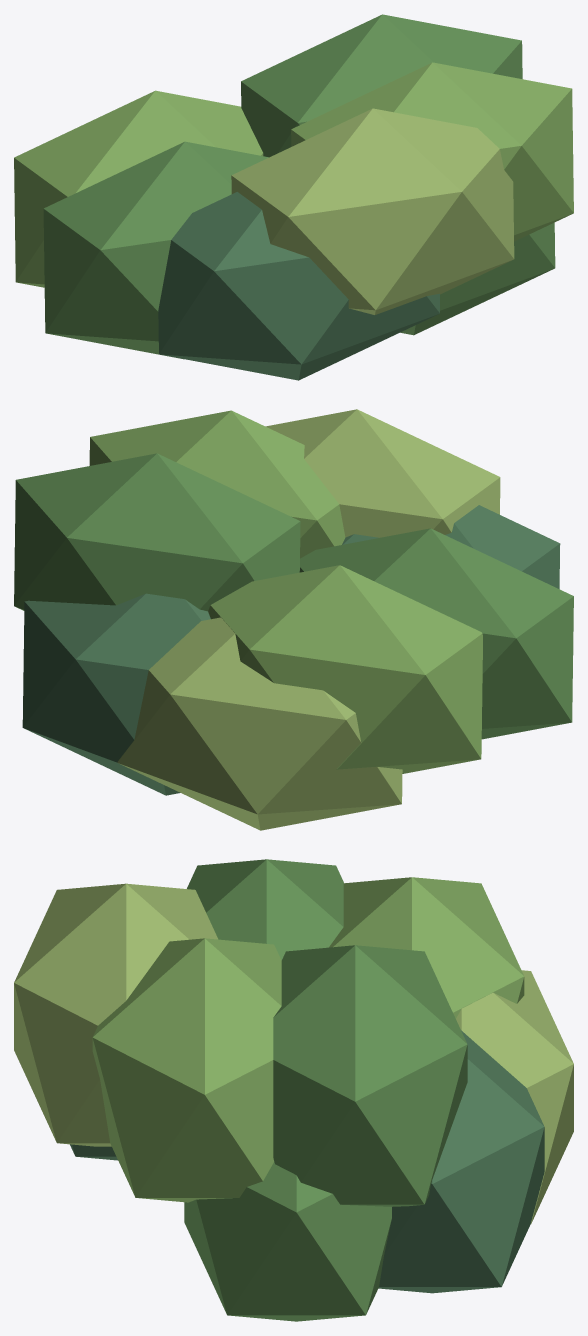
Rendered from bush.glb.
3 views of the same model, one above another, from view 1: azimuth 30°, elevation 25°; view 2: azimuth 150°, elevation 25°; view 3: azimuth 270°, elevation 25° (orthographic). The views are drawn at different scales.
Visible parts, largest first — view 1: Shrub.002, Shrub.007, Shrub.004, Shrub.005, Shrub.008, Shrub.001, Shrub; view 2: Shrub.001, Shrub.008, Shrub.006, Shrub.004, Shrub.003, Shrub.002, Shrub.005, Shrub.007; view 3: Shrub.008, Shrub.005, Shrub.002, Shrub.003, Shrub, Shrub.001, Shrub.004, Shrub.006.
Boxes of the visible parts, x1,y1,x2,y2 form: Shrub.002: (231, 108, 514, 314); Shrub.007: (158, 192, 439, 380); Shrub.004: (43, 141, 268, 359); Shrub.005: (291, 62, 573, 241); Shrub.008: (241, 14, 522, 157); Shrub.001: (14, 90, 263, 287); Shrub: (400, 222, 555, 335); Shrub.001: (208, 565, 482, 773); Shrub.008: (14, 453, 300, 611); Shrub.006: (117, 617, 402, 830); Shrub.004: (299, 528, 573, 739); Shrub.003: (22, 593, 210, 795); Shrub.002: (265, 409, 500, 537); Shrub.005: (89, 410, 345, 558); Shrub.007: (342, 505, 560, 588); Shrub.008: (273, 945, 467, 1206); Shrub.005: (92, 938, 281, 1202); Shrub.002: (14, 883, 218, 1146); Shrub.003: (378, 1030, 544, 1293); Shrub: (184, 1162, 391, 1321); Shrub.001: (329, 877, 524, 1018); Shrub.004: (187, 859, 343, 960); Shrub.006: (456, 970, 573, 1223).
Bounding box in the file's own units: 1.5 × 0.84 × 1.15.
